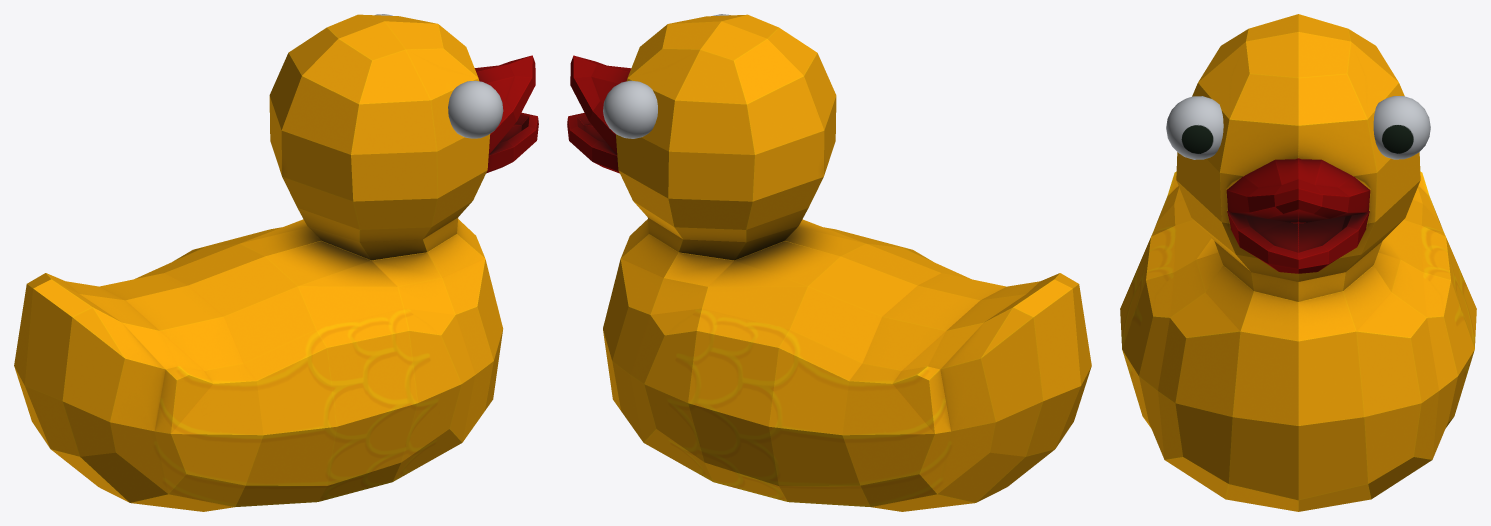
File: Duck (1).glb
3 views of the same model, side by side, from view 1: azimuth 30°, elevation 25°; view 2: azimuth 150°, elevation 25°; view 3: azimuth 270°, elevation 25° (orthographic). The views are drawn at different scales.
Parts seen in each view (by area): view 1: RubberDuck, Duck Eyes; view 2: RubberDuck, Duck Eyes; view 3: RubberDuck, Duck Eyes.
Part boxes in pixels (x1,y1,x2,y2): RubberDuck: (14, 14, 538, 511); Duck Eyes: (375, 14, 503, 138); RubberDuck: (567, 14, 1091, 511); Duck Eyes: (603, 14, 730, 138); RubberDuck: (1120, 14, 1476, 511); Duck Eyes: (1166, 96, 1430, 159).
Size of the model in its own units: 2.42 by 1.92 by 1.32.
2 materials, 2 textured.
